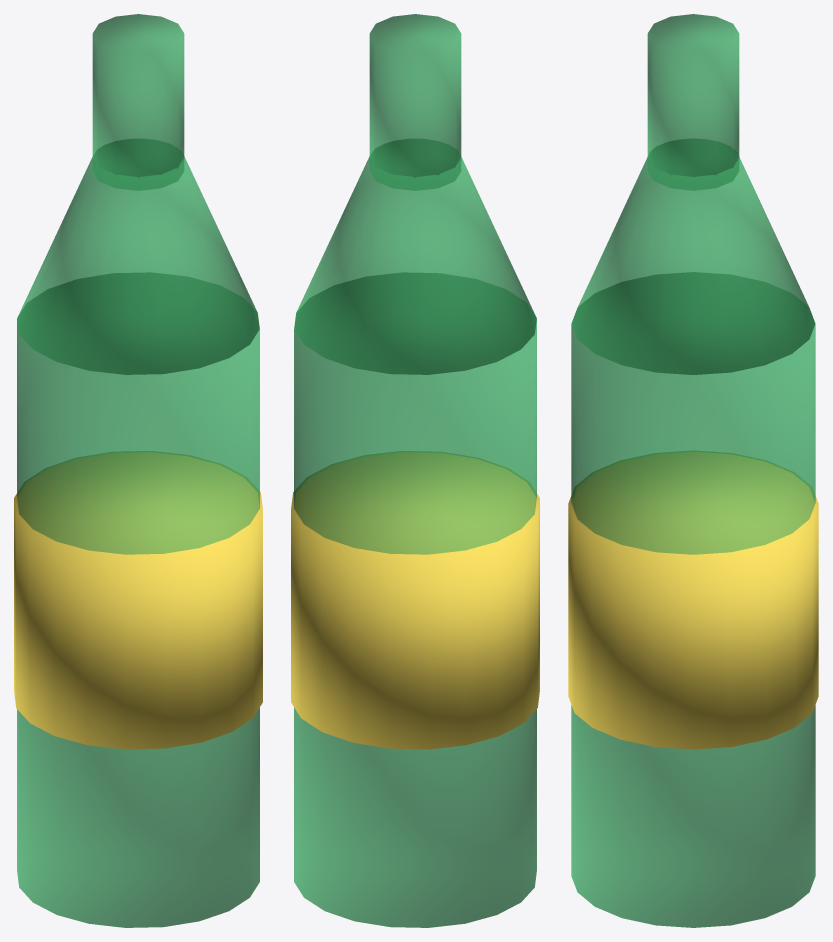
File: Trash_Bottle.fbx
3 views of the same model, side by side, from view 1: azimuth 30°, elevation 25°; view 2: azimuth 150°, elevation 25°; view 3: azimuth 270°, elevation 25° (orthographic).
Visible parts, largest first — view 1: Trash_Bottle; view 2: Trash_Bottle; view 3: Trash_Bottle.
Part boxes in pixels (left/top/right/bottom): Trash_Bottle: left=14, top=14, right=262, bottom=927; Trash_Bottle: left=291, top=14, right=539, bottom=927; Trash_Bottle: left=568, top=14, right=818, bottom=927.
Size of the model in its own units: 0.082 by 0.305 by 0.082.
